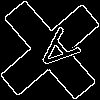A: (25, 25, 82, 82)
